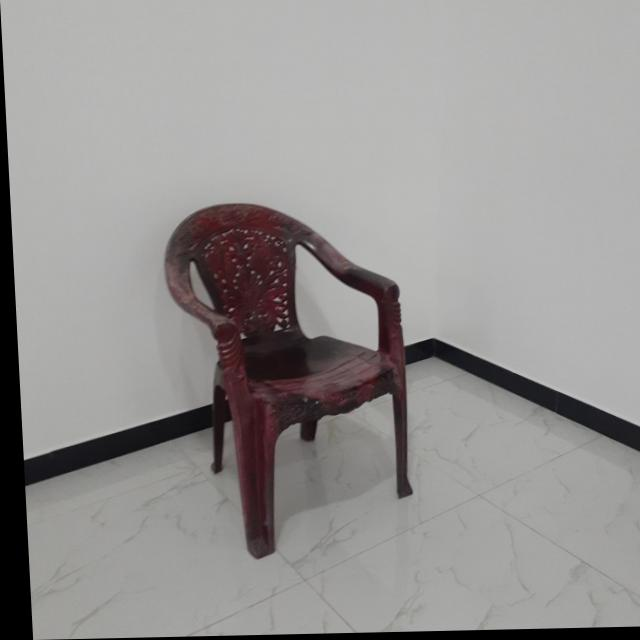Chair: (157, 198, 413, 566)
